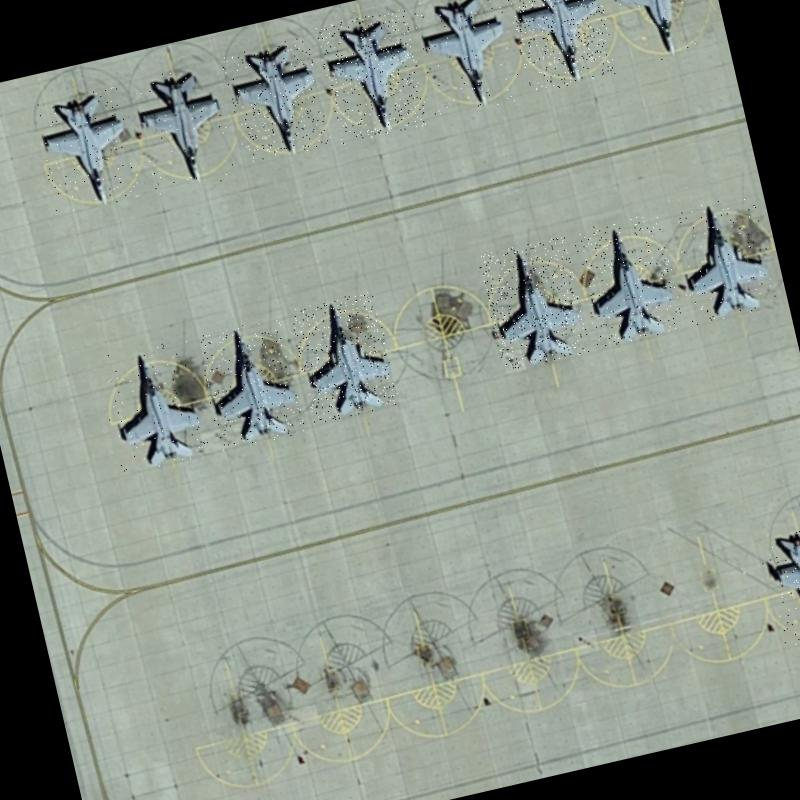A16: (94, 336, 214, 474), (314, 7, 431, 145), (570, 211, 686, 348), (476, 235, 591, 372), (665, 192, 780, 326), (127, 60, 240, 196), (194, 316, 306, 452), (288, 289, 400, 424), (31, 84, 142, 216), (220, 36, 332, 164), (409, 0, 524, 121), (503, 0, 618, 94), (597, 0, 712, 70), (755, 517, 800, 650)
